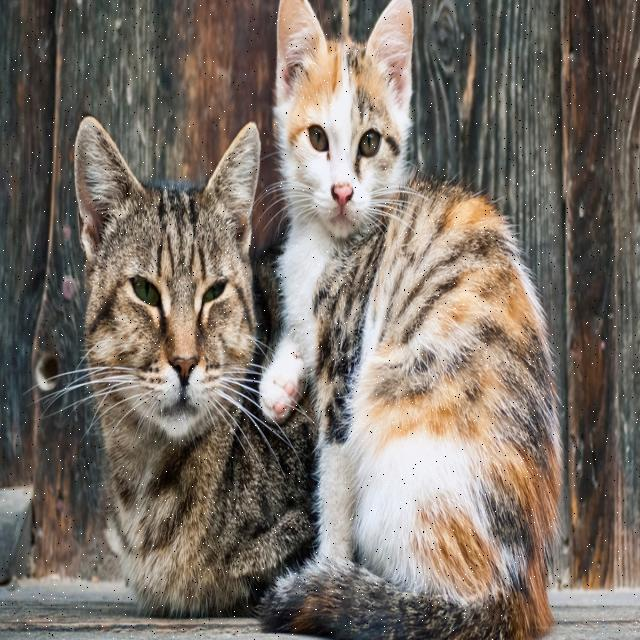cat: (260, 0, 561, 639), (75, 118, 316, 615)
